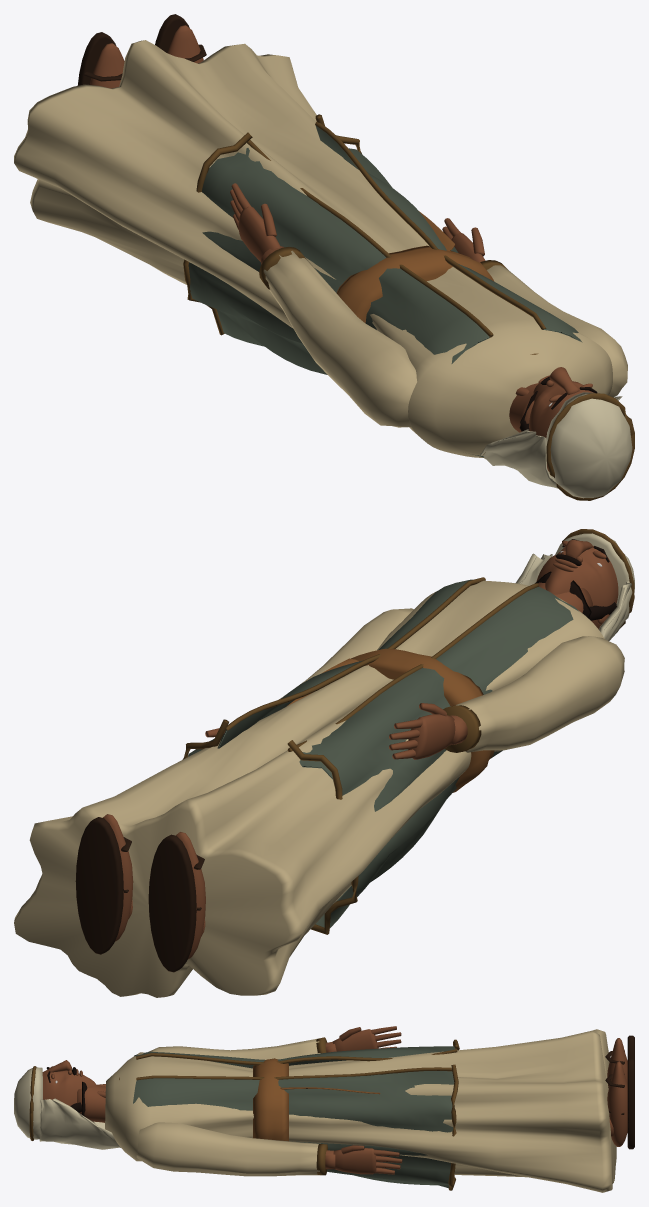
Rendered from SM_V3_Pilgrim_Man_Standard.obj.
3 renders of one model, top to bottom at view 1: azimuth 30°, elevation 25°; view 2: azimuth 150°, elevation 25°; view 3: azimuth 270°, elevation 25°, orthographic. The views are drawn at different scales.
Parts seen in each view (by area): view 1: Tunic, Mantle, SleeveR, HeadCap, Sash, SleeveL, HeadCloth, MantleEdge-1, Head, PalmR, HeadBand, MantleEdge1 (+5 smaller); view 2: Tunic, Mantle, SleeveR, SandalSoleR, SandalSoleL, Sash, Head, SleeveL, MantleEdge-1, MantleHem, PalmR, HeadCloth (+5 smaller); view 3: Tunic, Mantle, SleeveL, Sash, HeadCloth, SleeveR, HeadCap, FootL, Head, MantleEdge-1, MantleEdge1, PalmL (+7 smaller).
Boxes of the visible parts, x1,y1,x2,y2 form: Tunic: [14, 40, 612, 457]; Mantle: [188, 125, 582, 457]; SleeveR: [263, 250, 417, 427]; HeadCap: [546, 392, 632, 498]; Sash: [336, 245, 494, 323]; SleeveL: [487, 265, 627, 397]; HeadCloth: [480, 396, 622, 490]; MantleEdge-1: [315, 122, 546, 329]; Head: [529, 381, 594, 471]; PalmR: [238, 206, 280, 261]; HeadBand: [546, 393, 634, 500]; MantleEdge1: [247, 140, 493, 337]; Tunic: [14, 580, 604, 997]; Mantle: [188, 579, 578, 928]; SleeveR: [456, 636, 624, 752]; SandalSoleR: [148, 834, 196, 972]; SandalSoleL: [75, 817, 123, 954]; Sash: [351, 648, 494, 792]; Head: [536, 546, 618, 629]; SleeveL: [279, 608, 413, 699]; MantleEdge-1: [225, 577, 485, 730]; MantleHem: [182, 719, 358, 934]; PalmR: [408, 714, 455, 759]; HeadCloth: [515, 553, 632, 640]; Tunic: [105, 1029, 616, 1192]; Mantle: [133, 1046, 454, 1187]; SleeveL: [136, 1122, 320, 1176]; Sash: [253, 1058, 288, 1141]; HeadCloth: [39, 1098, 120, 1149]; SleeveR: [148, 1038, 320, 1059]; HeadCap: [14, 1067, 42, 1139]; FootL: [607, 1061, 627, 1146]; Head: [42, 1069, 96, 1105]; MantleEdge-1: [136, 1067, 452, 1080]; MantleEdge1: [135, 1049, 457, 1065]; PalmL: [333, 1148, 376, 1174].
Size of the model in its own units: 63.21 by 44.52 by 179.
